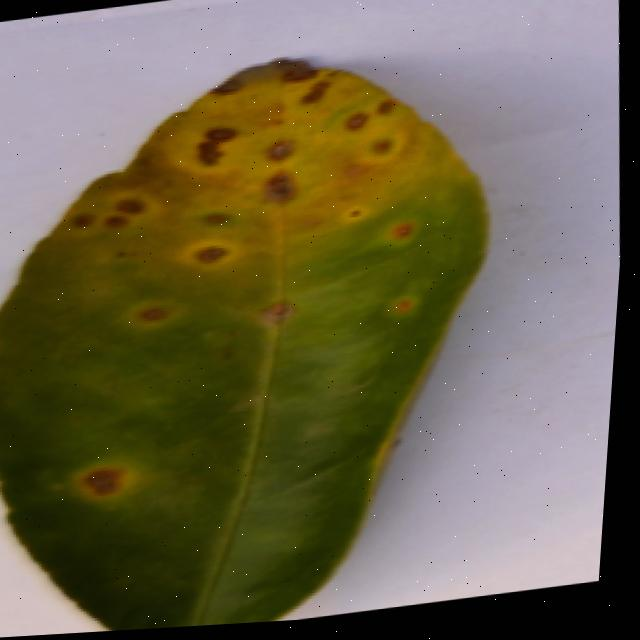canker: (0, 60, 485, 631), (21, 35, 436, 298), (70, 443, 139, 514), (115, 279, 175, 344), (251, 281, 308, 336), (382, 265, 423, 330)
